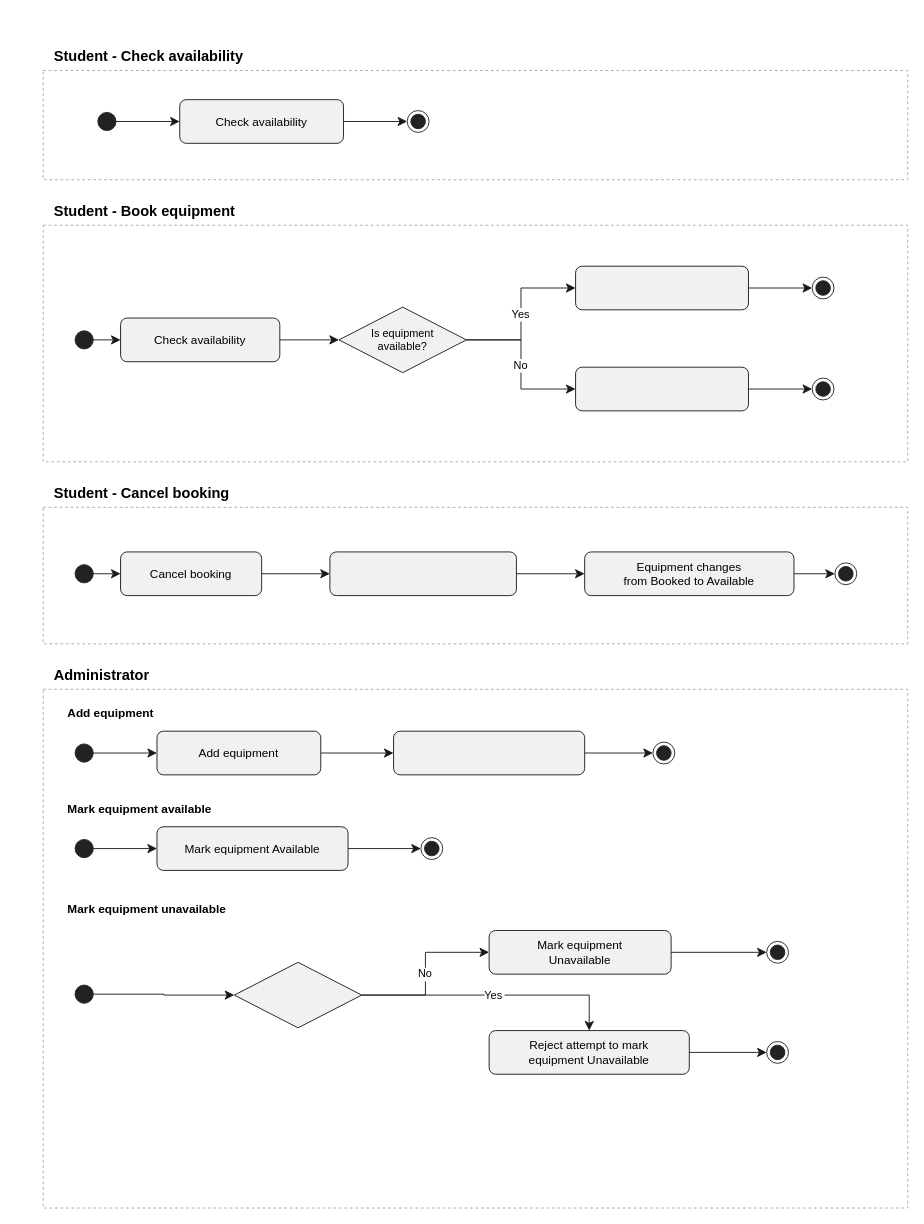
This 924x1224 diagram has some shape labels left out. Here are the shapes that lost their labels. From the top down, the box of each, then its label:
(575, 265, 748, 310): Create booking
(575, 366, 748, 411): Booking is not created
(329, 551, 516, 596): Retain booking with status Cancelled
(393, 730, 585, 775): New equipment starts as Available
(233, 961, 362, 1028): Is equipment Booked?
